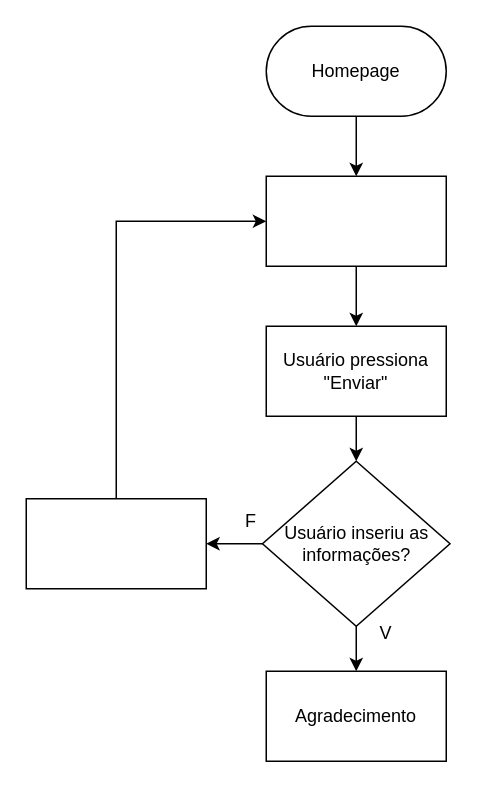
Image size: 477x788. Some labels were removed from this diagram. The centre of each missing label's shape, as x and y in pixels:
Erro de formulário: the point at 115,543
Fale Conosco: the point at 355,220
